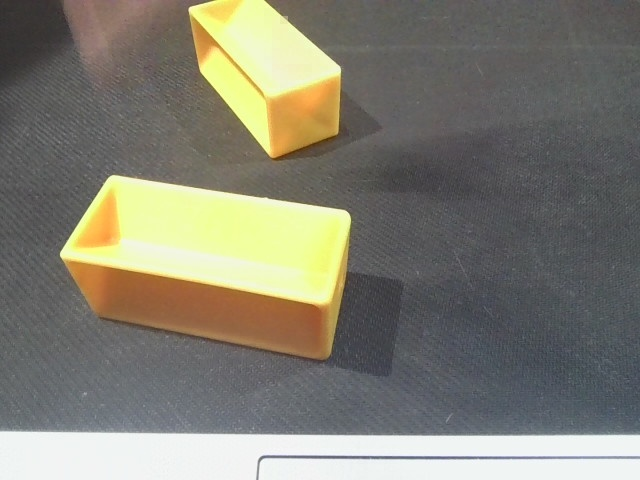YellowSample: (56, 174, 355, 366), (187, 1, 342, 162)
